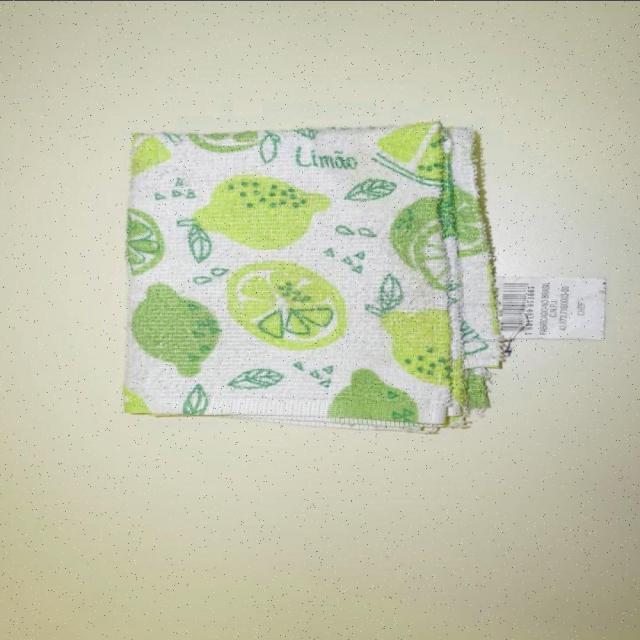Cloth: (123, 118, 610, 434)
